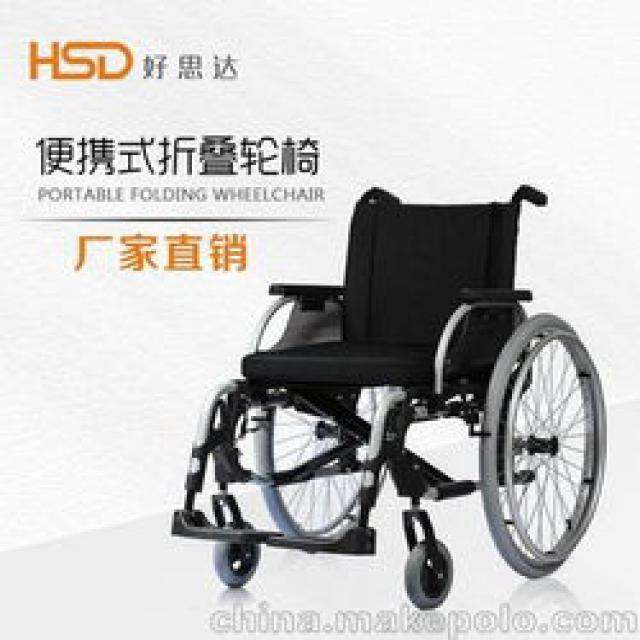wheelchair: (166, 180, 630, 606)
